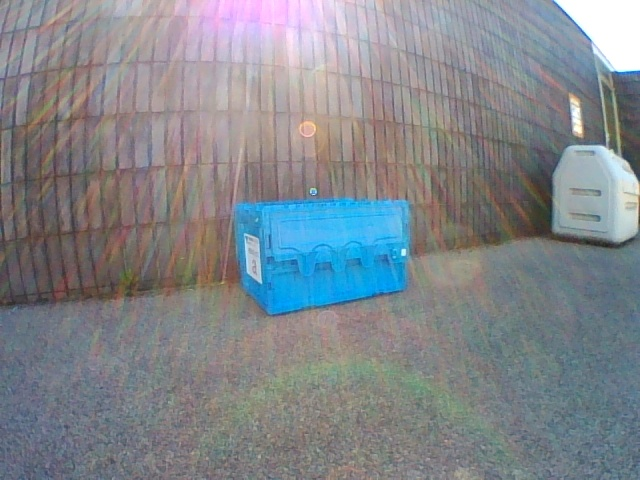blue_box: (236, 200, 407, 315)
tag_a: (249, 244, 259, 276)
